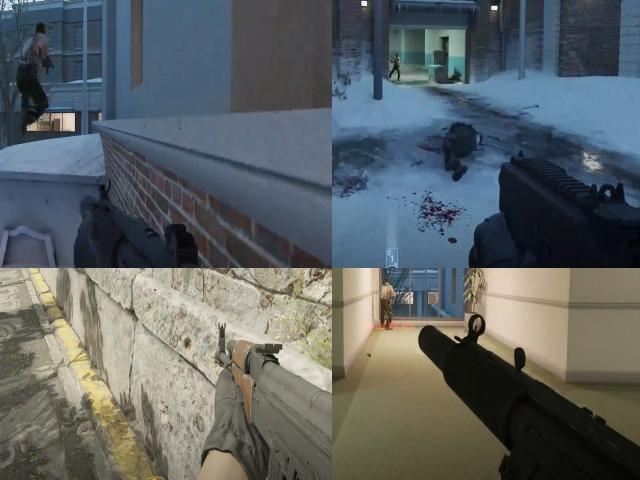Dead: (434, 110, 486, 187)
T: (14, 34, 52, 78), (377, 278, 396, 303), (390, 52, 401, 76)
T-Head: (34, 19, 48, 37), (383, 278, 392, 290), (394, 53, 399, 60)
